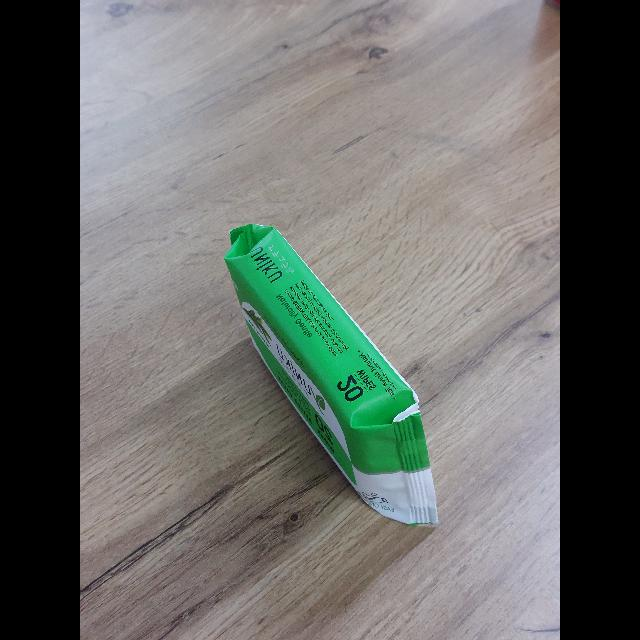khan_giay: (224, 224, 438, 525)
